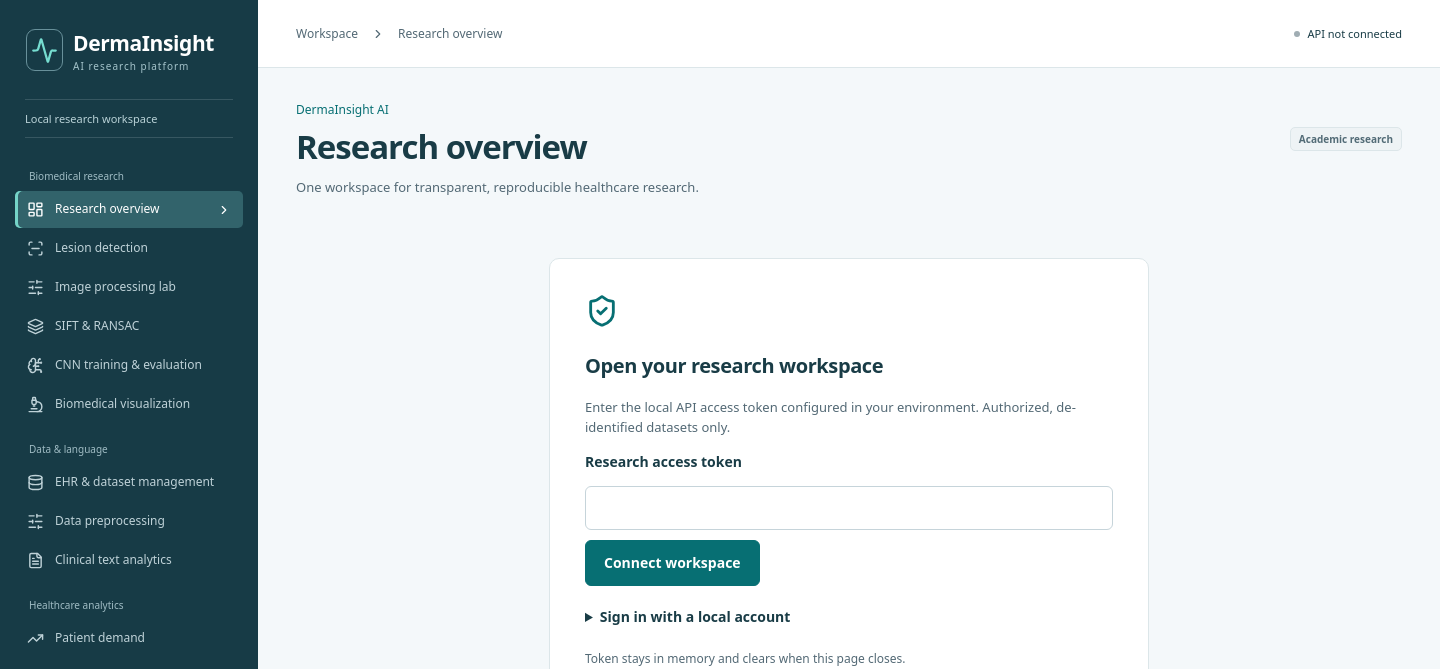
it: validates image upload and clears data when workspace is locked
In the password field labelled "Research access token": (849, 508) [585, 486, 1113, 530], type "isolated-component-test-token"
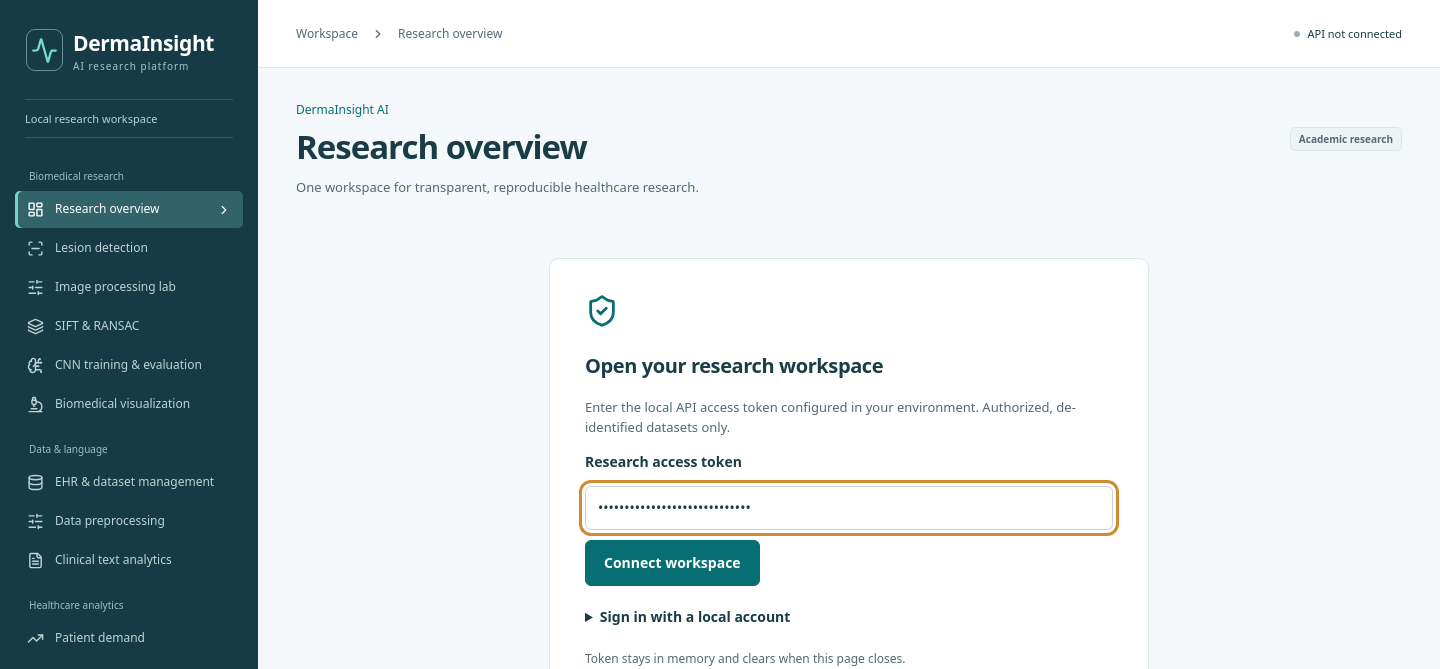
Click the button "Connect workspace": (672, 563) [585, 540, 760, 586]
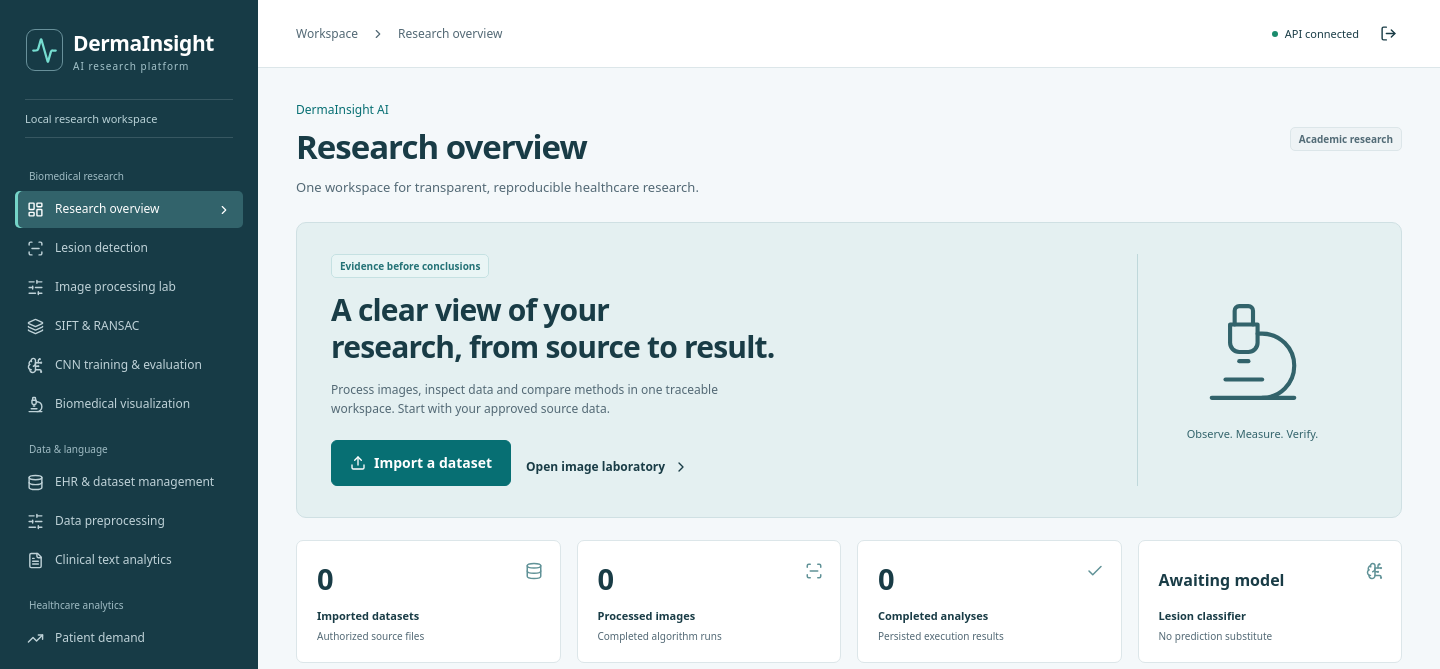
Result: the text "API connected" is shown at [1272, 25, 1359, 42]
Click the link "Image processing lab": (101, 287) [27, 278, 176, 296]
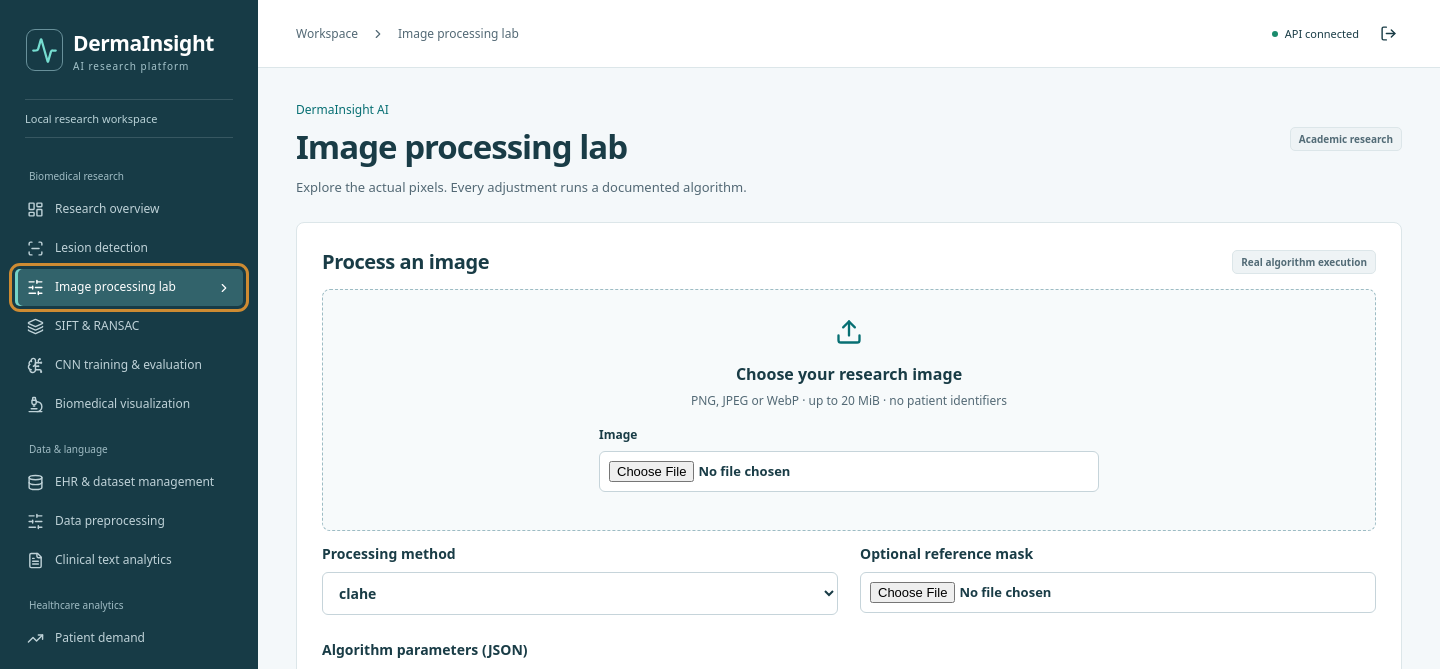
Click the button named "Lock workspace": (1388, 34) [1375, 20, 1402, 47]
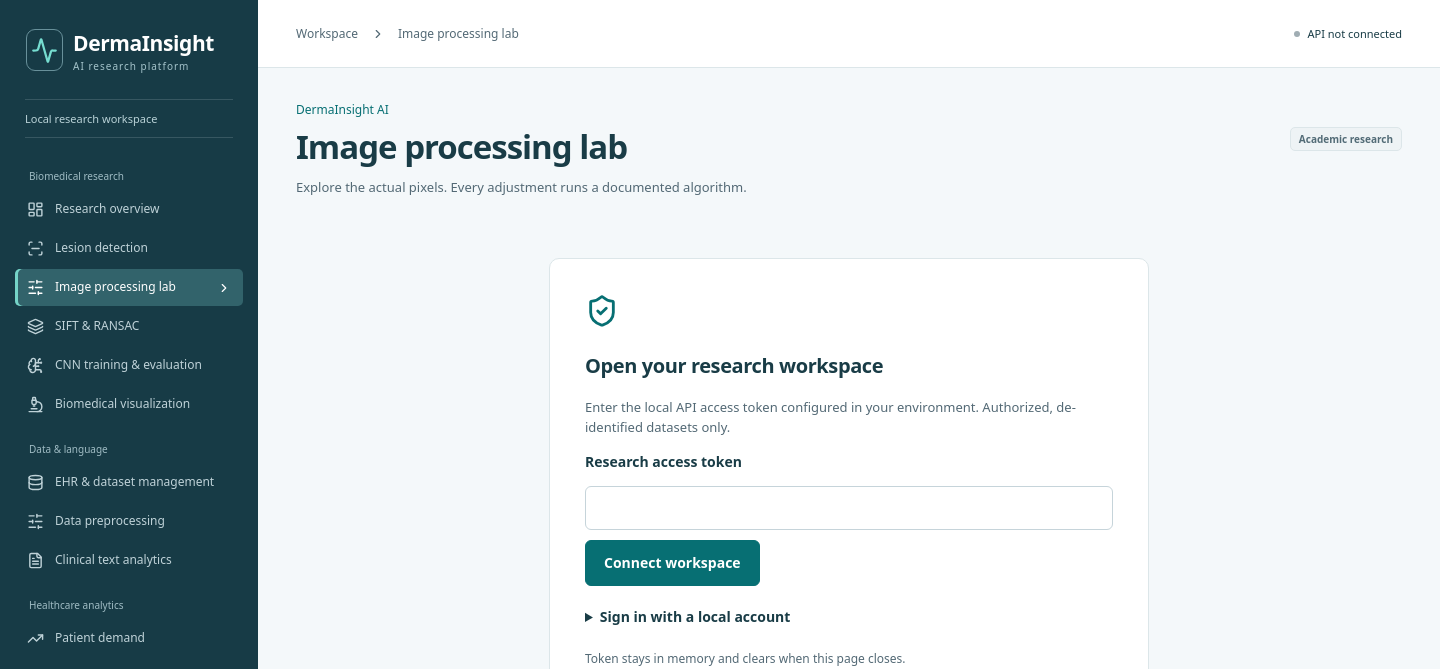
Result: the password field labelled "Research access token" is shown at [585, 486, 1113, 530]
